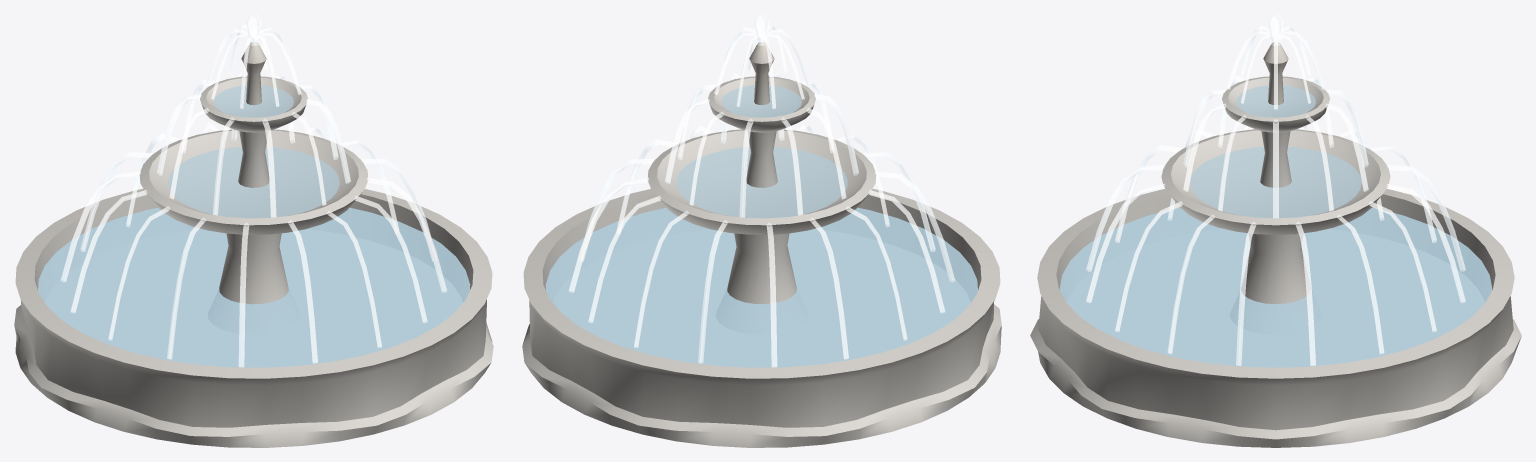
File: fountain.glb
3 renders of one model, left to right at view 1: azimuth 30°, elevation 25°; view 2: azimuth 150°, elevation 25°; view 3: azimuth 270°, elevation 25°, orthographic.
Parts seen in each view (by area): view 1: fountain; view 2: fountain; view 3: fountain.
Part boxes in pixels (left/top/right/bottom): fountain: left=14, top=14, right=493, bottom=447; fountain: left=522, top=14, right=1001, bottom=447; fountain: left=1030, top=14, right=1521, bottom=447.
Size of the model in its own units: 3.09 by 2.3 by 3.09.
